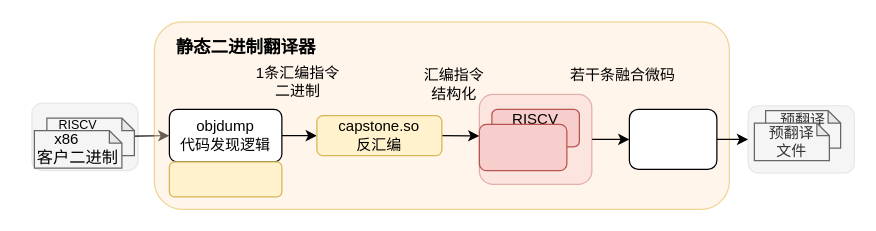
Some shapes in this 876 by 231 pixel diagram are drawn without their labels. The centre of each missing label's shape, as x and y in pixels:
"libLLVM.so" belongs at point (225, 179).
"x86 翻译器" belongs at point (522, 147).
"提交器" belongs at point (672, 138).
